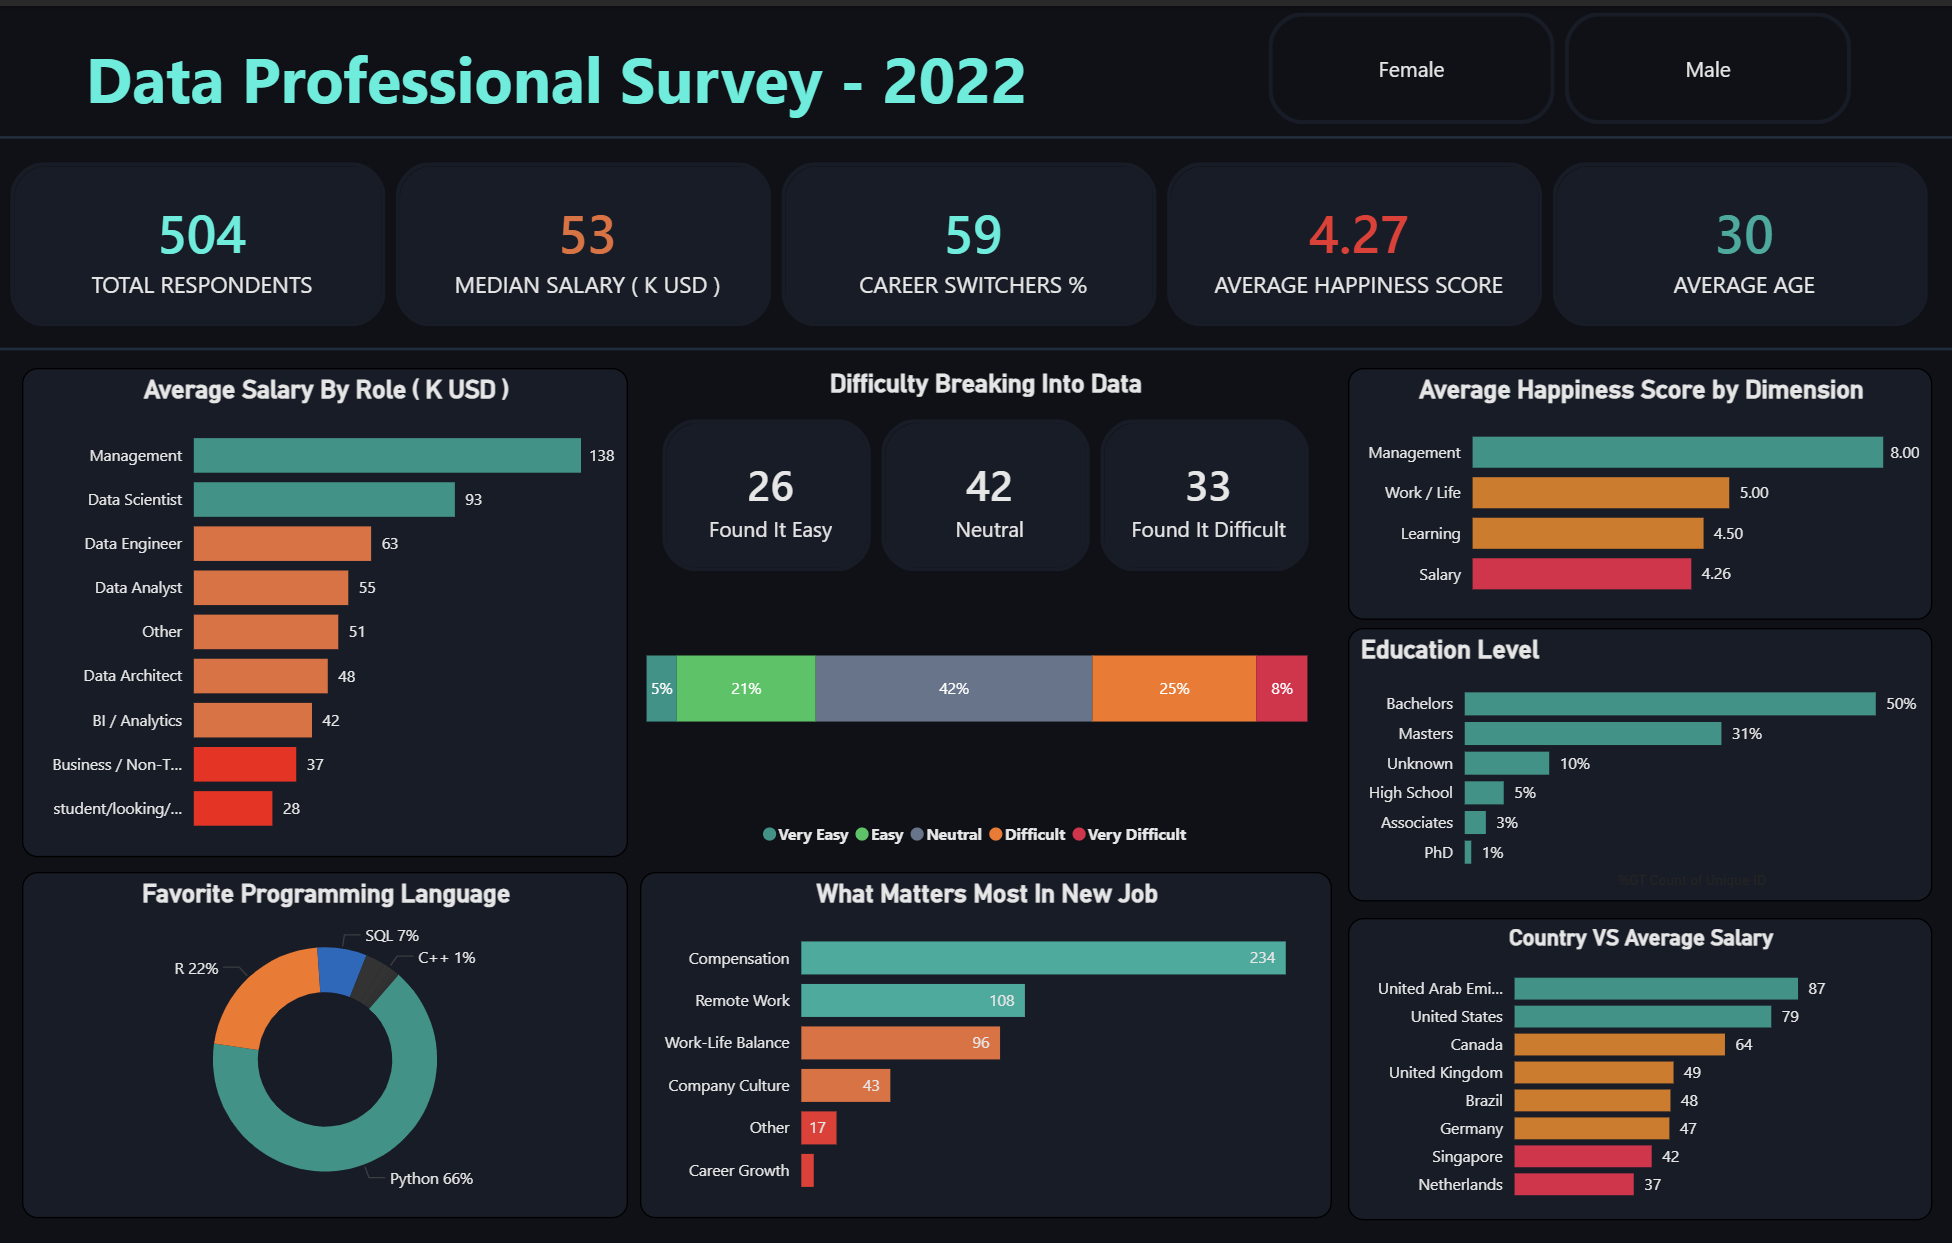

The page's visual inventory and layout, read from the dashboard file:
{"tool":"powerbi","page":{"name":"Page 1","canvas":[1500,950],"ordinal":0},"visuals":[{"type":"textbox","box":[0,16.1,852.5,90.4],"z":0},{"type":"cardVisual","fields":{"Data":["CountNonNull(Data Professional Survey.Unique ID)","Median(Data Professional Survey.Average Salary)","Data Professional Survey.career switchers %","Data Professional Survey.Average Happiness Score","Avg(Data Professional Survey.Q10 - Current Age)"]},"box":[0,101.7,1500,159.8],"z":1000},{"type":"barChart","title":"Average Salary By Role ( K USD )","fields":{"Category":["Data Professional Survey.Q1 - Which Title Best Fits your Current Role?"],"Y":["Avg(Data Professional Survey.Average Salary)"]},"box":[25.8,276.1,461.8,373],"z":2000},{"type":"donutChart","title":"Favorite Programming Language","fields":{"Category":["Data Professional Survey.Q5 - Favorite Programming Language"],"Y":["CountNonNull(Data Professional Survey.Unique ID)"]},"box":[25.9,660.3,462,263.8],"z":3000},{"type":"barChart","title":"Country VS Average Salary","fields":{"Category":["Data Professional Survey.Q11 - Which Country do you live in?"],"Y":["Avg(Data Professional Survey.Average Salary)"]},"box":[1036.9,695.3,445.3,230.3],"z":4000},{"type":"barChart","title":"What Matters Most In New Job","fields":{"Category":["Data Professional Survey.Q8 - If you were to look for a new job today, what would be the most important thing to you?"],"Y":["CountNonNull(Data Professional Survey.Unique ID)"],"Series":["Data Professional Survey.Q8 - If you were to look for a new job today, what would be the most important thing to you?"]},"box":[497.1,660.3,527.6,263.8],"z":5000},{"type":"barChart","fields":{"Category":["Data Professional Survey.Dimension"],"Y":["Data Professional Survey.Average Happiness Score"]},"box":[1036.6,276.1,445.6,192.1],"z":6000},{"type":"hundredPercentStackedBarChart","title":"Difficulty Breaking Into Data","fields":{"Y":["Data Professional Survey.Difficulty Count"],"Series":["Data Professional Survey.Q7 - How difficult was it for you to break into Data?"]},"box":[497.1,414.8,513.9,234.8],"z":7000},{"type":"cardVisual","title":"Difficulty Breaking Into Data","fields":{"Data":["Data Professional Survey.Found It Easy %","Data Professional Survey.Found It Neutral %","Data Professional Survey.Found It Difficult %"]},"box":[497.1,276,527.6,172.3],"z":8000},{"type":"barChart","title":"Education Level","fields":{"Category":["Data Professional Survey.Q12 - Highest Level of Education"],"Y":["CountNonNull(Data Professional Survey.Unique ID)"]},"box":[1036.6,474.7,445.6,208.3],"z":9000},{"type":"shape","box":[0,95.3,1500,11.3],"z":9002},{"type":"shape","box":[0,256.2,1500.5,10.7],"z":9003},{"type":"advancedSlicerVisual","fields":{"Values":["Data Professional Survey.Q9 - Male/Female?"]},"box":[972,0,455.3,95.3],"z":9004}]}

Visuals, with their boxes in screenshot pixels (x1, y1, x2, y2), scaled from the page's 1500x950 canvas onto the 1952x1243 screenshot:
textbox: 0, 21, 1109, 139
cardVisual - CountNonNull(Data Professional Survey.Unique ID) x Median(Data Professional Survey.Average Salary): 0, 133, 1951, 342
"Average Salary By Role ( K USD )" barChart: 34, 361, 635, 849
"Favorite Programming Language" donutChart: 34, 864, 635, 1209
"Country VS Average Salary" barChart: 1349, 910, 1929, 1211
"What Matters Most In New Job" barChart: 647, 864, 1333, 1209
barChart - Data Professional Survey.Dimension x Data Professional Survey.Average Happiness Score: 1349, 361, 1929, 613
"Difficulty Breaking Into Data" hundredPercentStackedBarChart: 647, 543, 1316, 850
"Difficulty Breaking Into Data" cardVisual: 647, 361, 1333, 587
"Education Level" barChart: 1349, 621, 1929, 894
shape: 0, 125, 1951, 139
shape: 0, 335, 1951, 349
advancedSlicerVisual - Data Professional Survey.Q9 - Male/Female?: 1265, 0, 1857, 125
